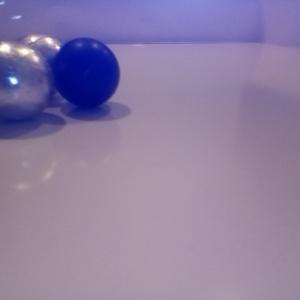alive_ball: (1, 41, 55, 122), (12, 34, 69, 99)
dead_ball: (54, 38, 120, 109)
